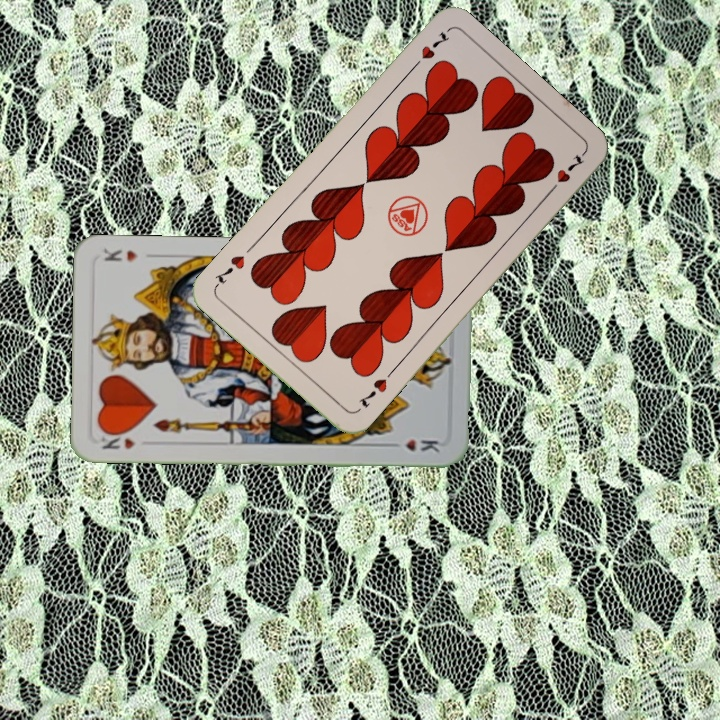H7: (406, 26, 453, 74), (354, 374, 390, 410)
HK: (95, 427, 138, 452)
